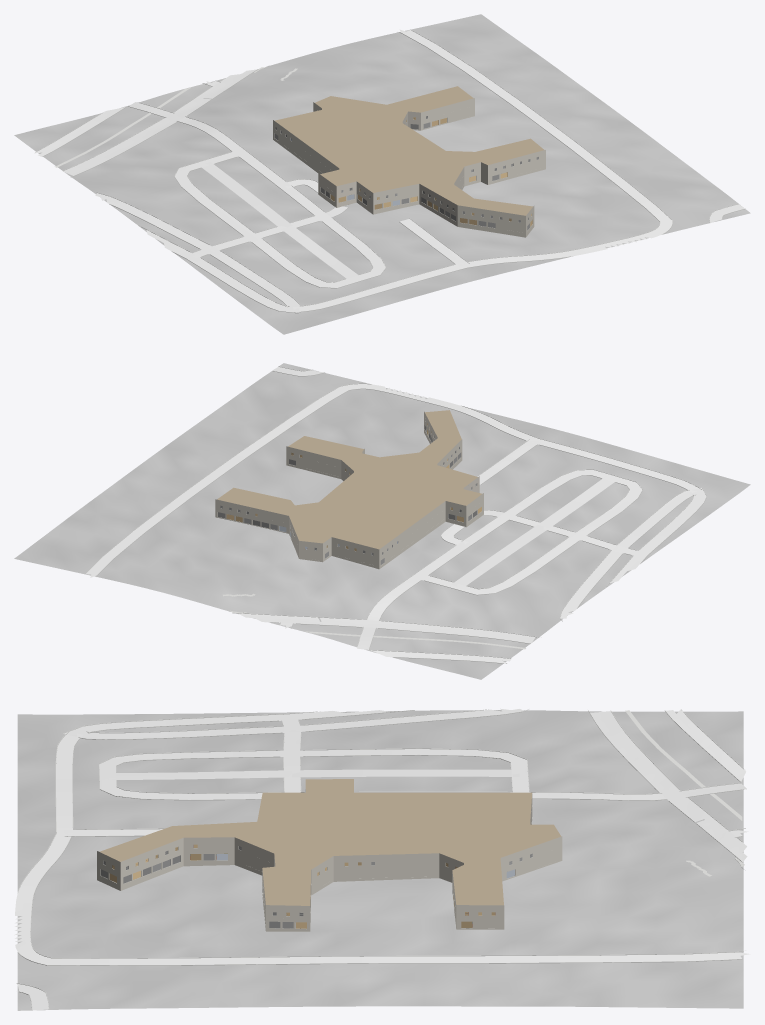
3 views of the same model, one above another, from view 1: azimuth 30°, elevation 25°; view 2: azimuth 150°, elevation 25°; view 3: azimuth 270°, elevation 25° (orthographic). The views are drawn at different scales.
Parts seen in each view (by area): view 1: ground, concrete, roof_flat, wall_com, curb, asphalt, glass, glass_lit; view 2: ground, concrete, roof_flat, wall_com, curb, asphalt, glass, walk; view 3: ground, concrete, roof_flat, wall_com, curb, asphalt, glass, glass_lit, walk.
Part boxes in pixels (x1,y1,x2,y2): ground: [14, 14, 750, 334]; concrete: [34, 29, 744, 312]; roof_flat: [274, 86, 543, 215]; wall_com: [273, 98, 545, 237]; curb: [35, 30, 745, 313]; asphalt: [63, 69, 256, 175]; glass: [274, 116, 538, 230]; glass_lit: [290, 110, 532, 226]; ground: [14, 363, 750, 679]; concrete: [86, 366, 706, 663]; roof_flat: [217, 410, 482, 549]; wall_com: [215, 411, 483, 569]; curb: [85, 366, 706, 663]; asphalt: [238, 613, 535, 643]; glass: [218, 419, 476, 564]; walk: [223, 593, 525, 649]; ground: [17, 710, 743, 1010]; concrete: [14, 708, 750, 1010]; roof_flat: [99, 779, 561, 905]; wall_com: [97, 789, 562, 931]; curb: [16, 709, 745, 1009]; asphalt: [590, 711, 747, 861]; glass: [101, 846, 532, 928]; glass_lit: [109, 844, 514, 928]; walk: [625, 710, 744, 876].
Size of the model in its own units: 252 by 16.07 by 254.
